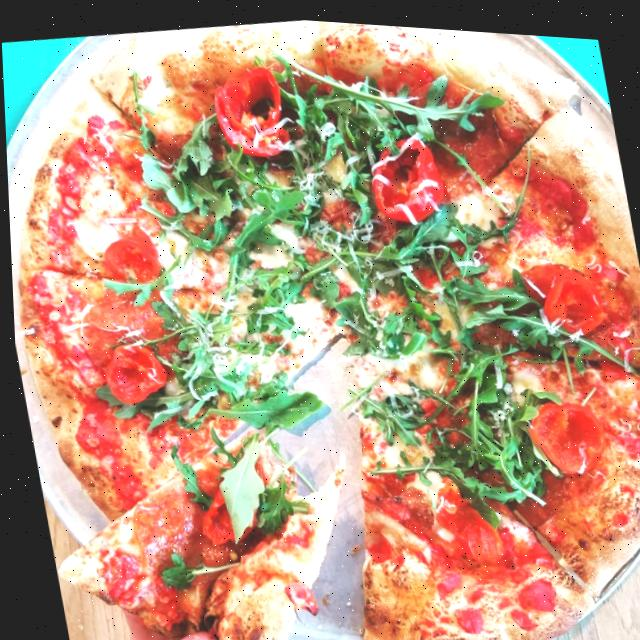pizza: (0, 0, 640, 640)
tomatoes: (361, 124, 453, 226), (208, 54, 293, 161), (523, 388, 598, 471), (535, 256, 608, 329), (98, 337, 170, 406), (90, 221, 163, 289)
